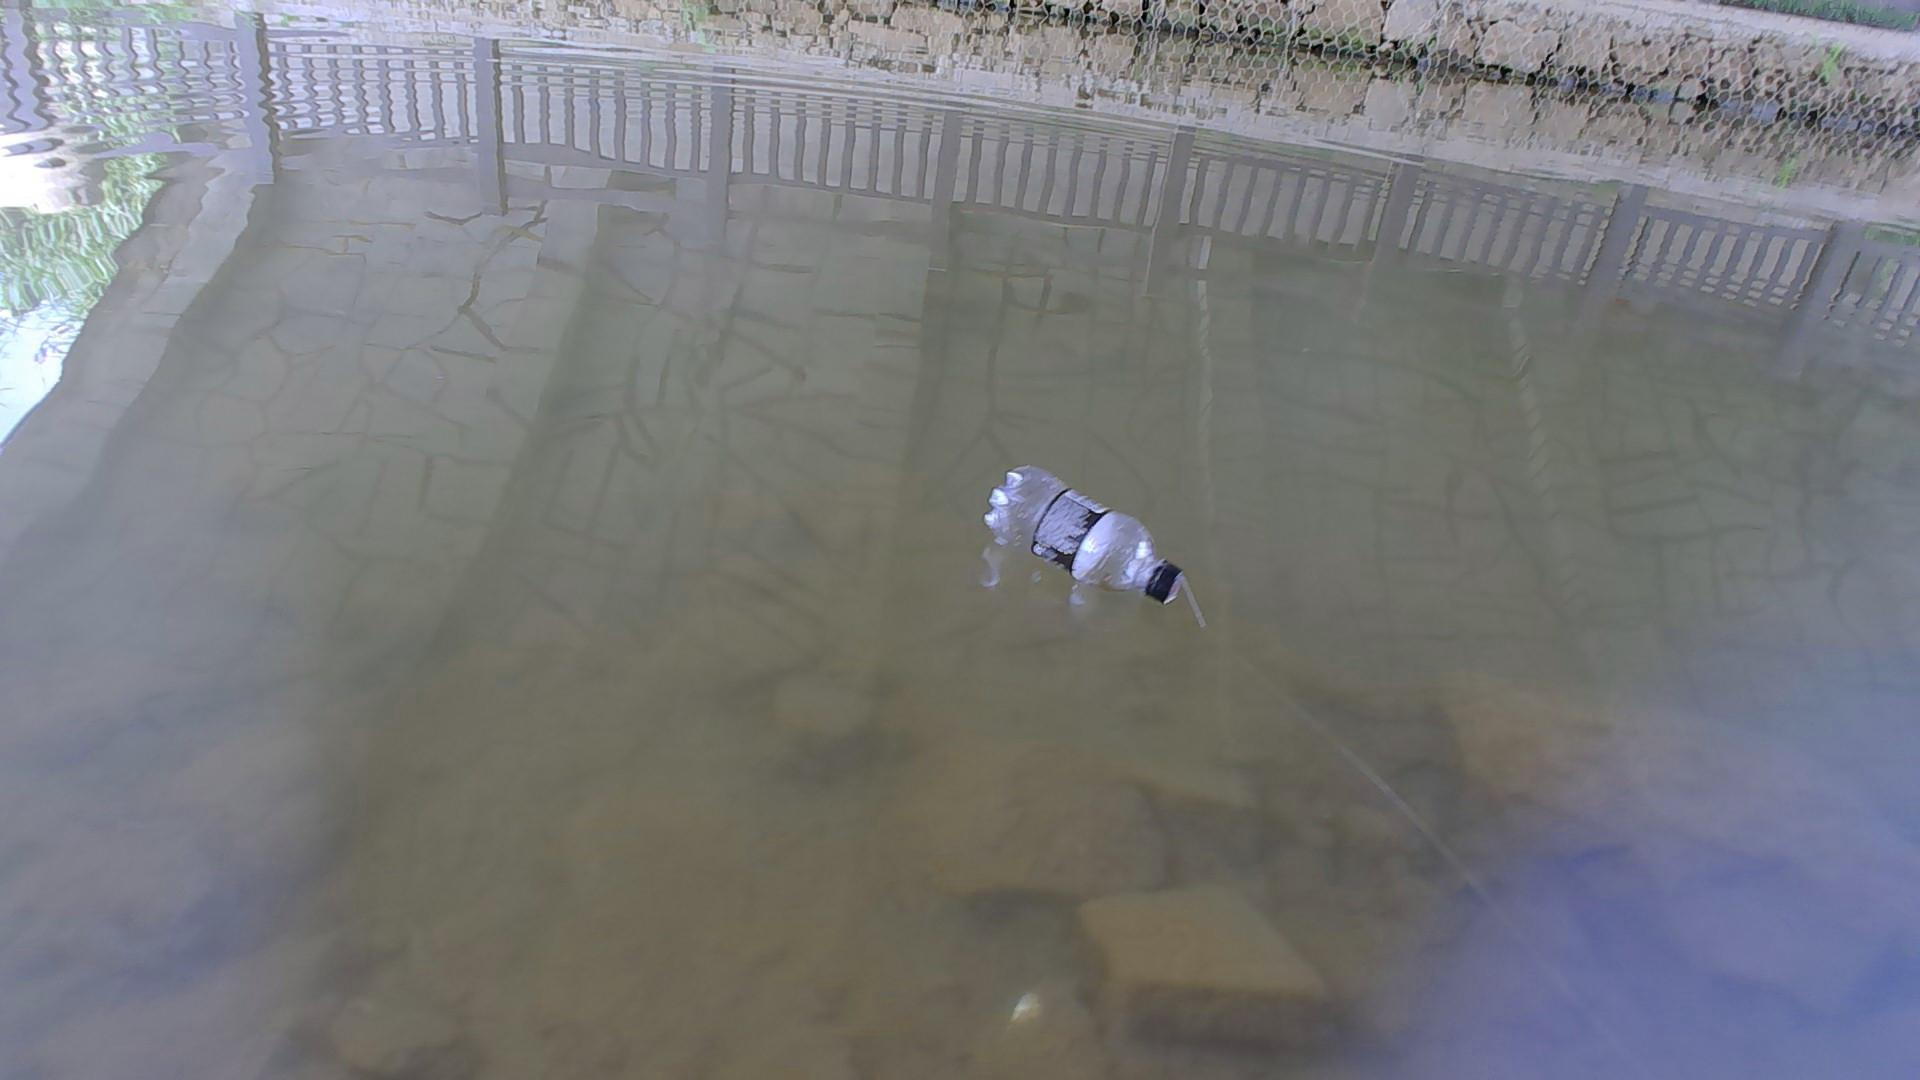Plastic: (982, 462, 1185, 605)
